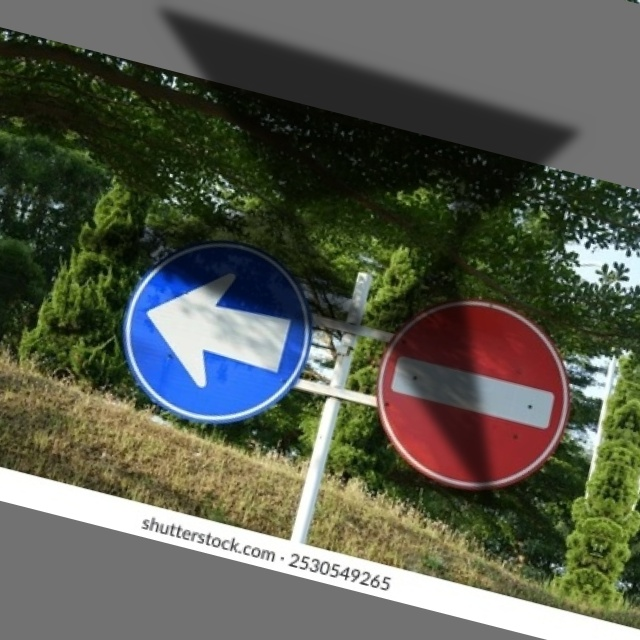Compulsory_Turn_Left: (102, 218, 330, 442)
